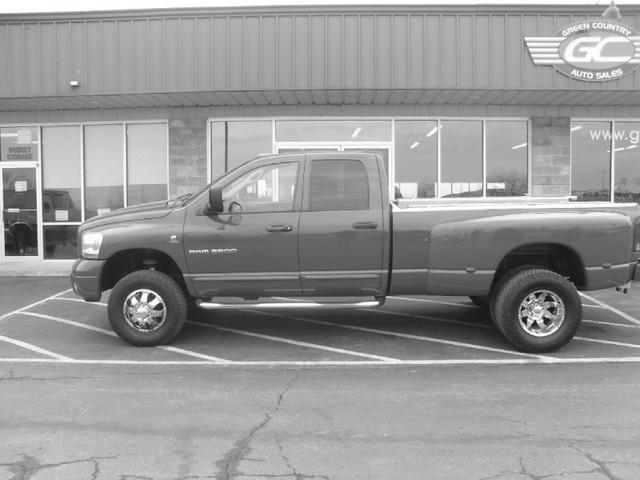car: (67, 147, 639, 349)
